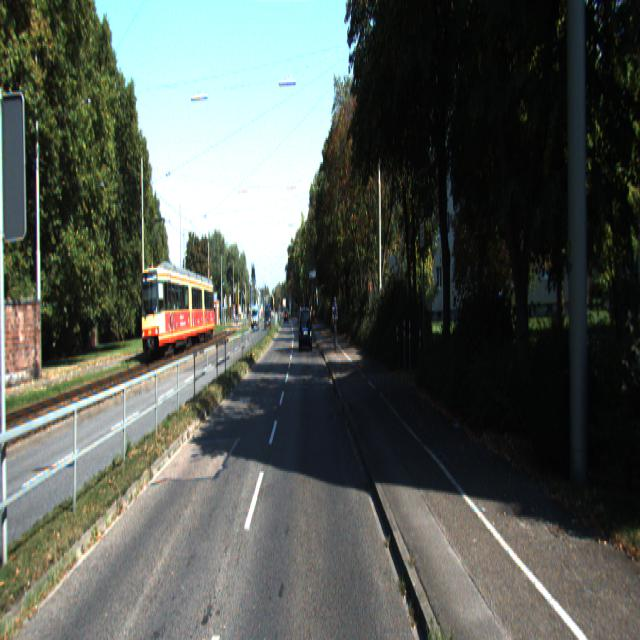Car: (140, 263, 216, 362), (299, 306, 313, 352)
